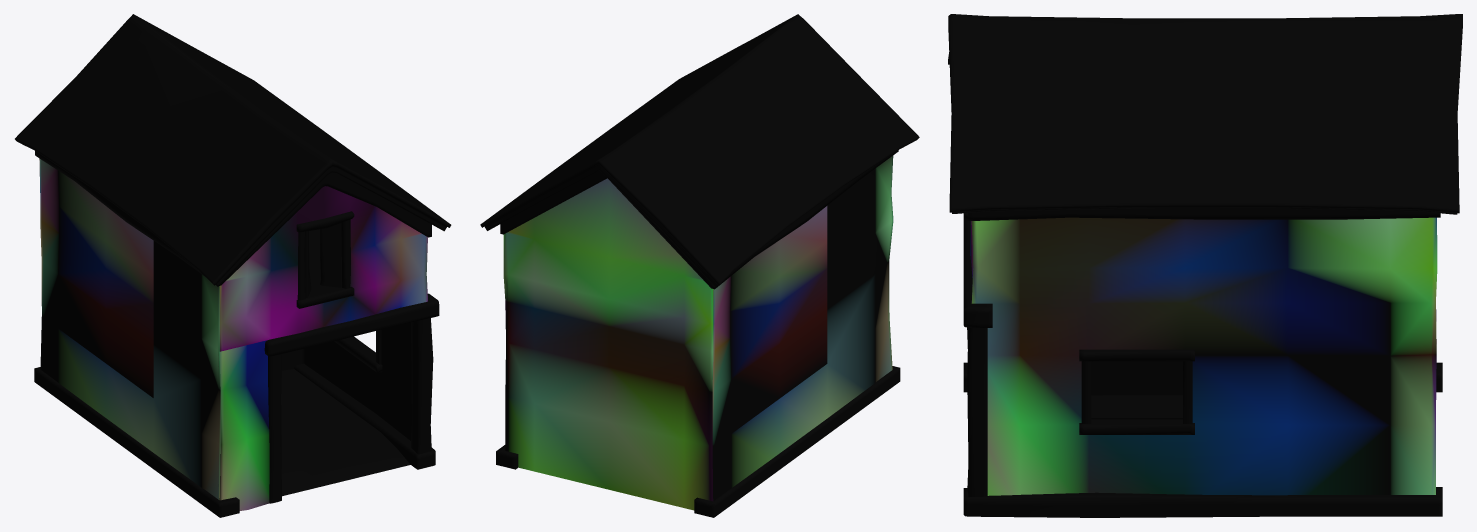
Rendered from Woods_Shed.gltf.
3 renders of one model, left to right at view 1: azimuth 30°, elevation 25°; view 2: azimuth 150°, elevation 25°; view 3: azimuth 270°, elevation 25°, orthographic. The views are drawn at different scales.
Visible parts, largest first — view 1: Woods_Shed; view 2: Woods_Shed; view 3: Woods_Shed.
Boxes of the visible parts, x1,y1,x2,y2 form: Woods_Shed: (15,14,451,517); Woods_Shed: (480,14,919,517); Woods_Shed: (948,14,1462,517).
Bounding box in the file's own units: 23.68 × 31.88 × 34.18.
